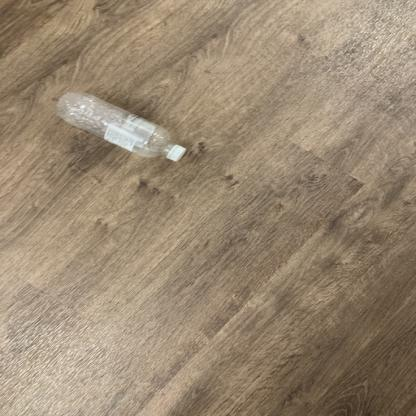trash: (53, 93, 192, 162)
